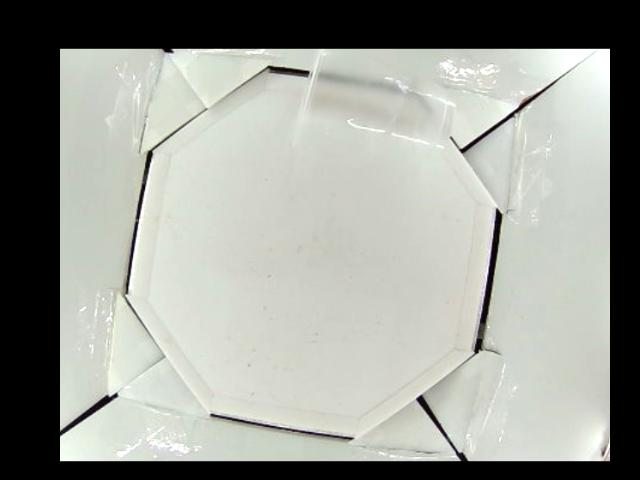Cup: (292, 53, 454, 167)
